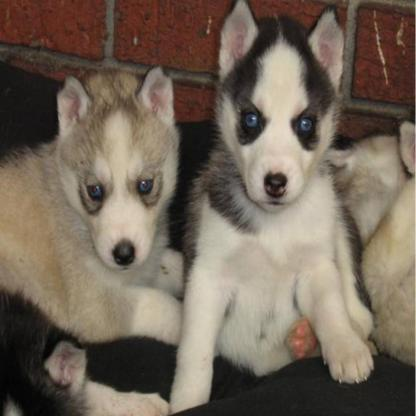dog: (174, 4, 374, 416), (0, 63, 179, 353)
